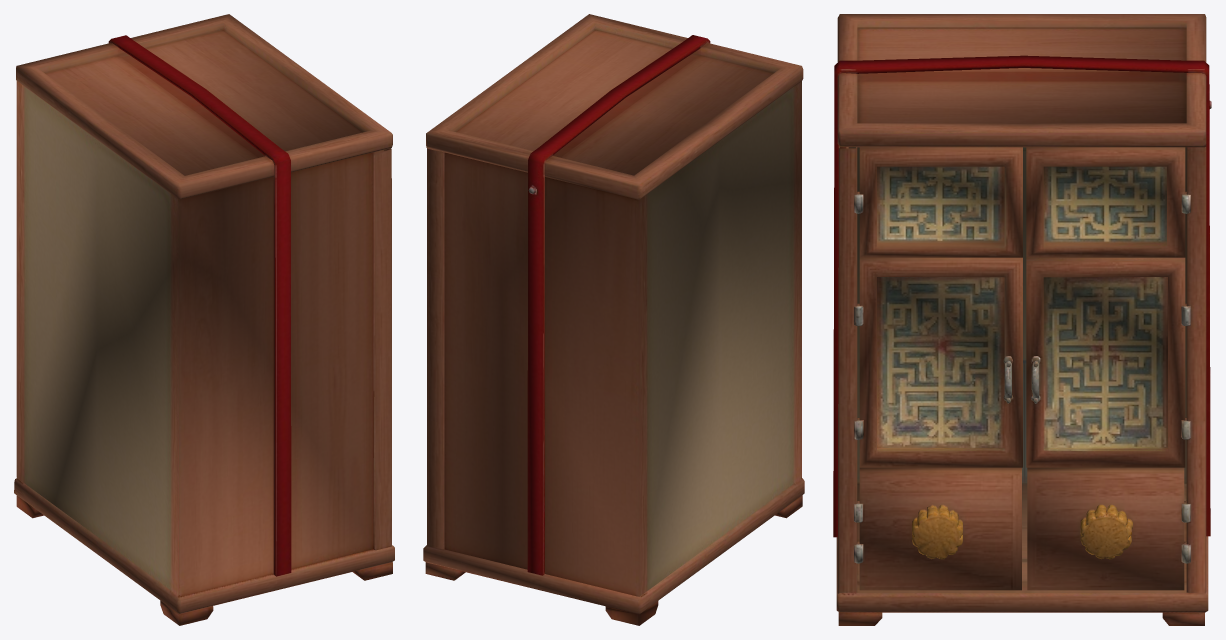
File: tripo_convert_8458aff5-9ea0-4dad-9282-5753fa7c3824.fbx
3 views of the same model, side by side, from view 1: azimuth 30°, elevation 25°; view 2: azimuth 150°, elevation 25°; view 3: azimuth 270°, elevation 25° (orthographic). The views are drawn at different scales.
Parts seen in each view (by area): view 1: tripo_node_8458aff5; view 2: tripo_node_8458aff5; view 3: tripo_node_8458aff5.
Boxes of the visible parts, left/top/right/bottom form: tripo_node_8458aff5: left=14, top=14, right=394, bottom=625; tripo_node_8458aff5: left=423, top=14, right=804, bottom=625; tripo_node_8458aff5: left=833, top=14, right=1211, bottom=625.
Bounding box in the file's own units: 0.5371 × 0.998 × 0.6777.
